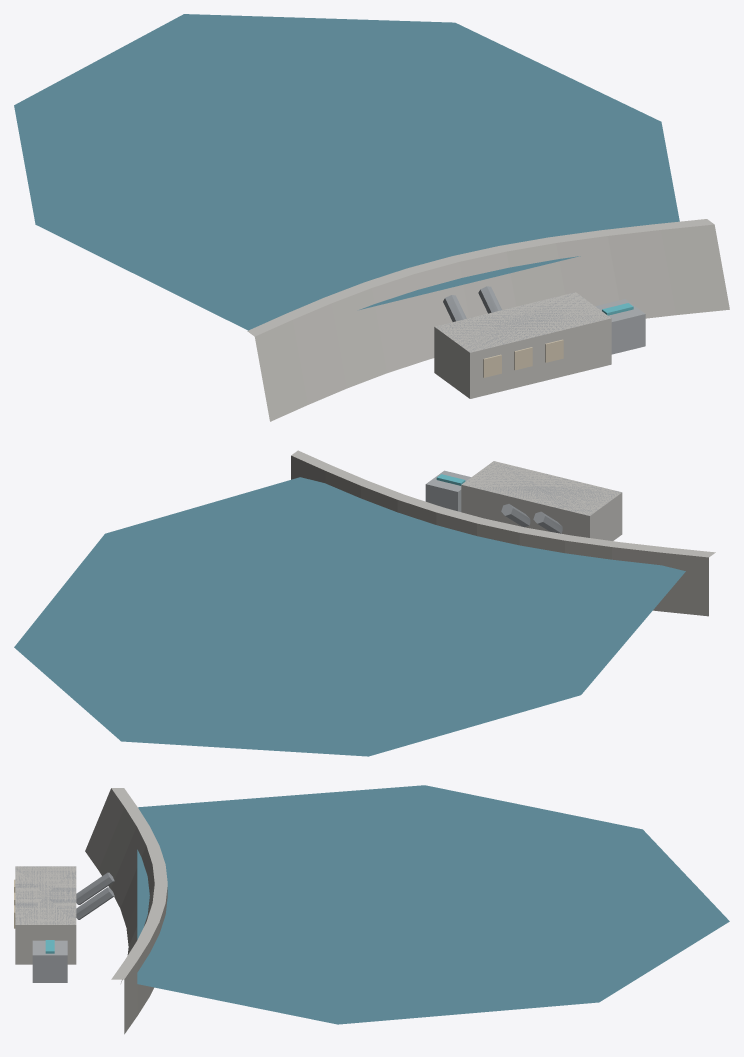
The model's file is plant_hydro_l2.glb.
3 views of the same model, one above another, from view 1: azimuth 30°, elevation 25°; view 2: azimuth 150°, elevation 25°; view 3: azimuth 270°, elevation 25° (orthographic). The views are drawn at different scales.
Parts seen in each view (by area): view 1: plant_hydro_l2; view 2: plant_hydro_l2; view 3: plant_hydro_l2.
Part boxes in pixels (x1,y1,x2,y2): plant_hydro_l2: [14, 14, 729, 421]; plant_hydro_l2: [14, 450, 715, 756]; plant_hydro_l2: [14, 785, 729, 1034].
Size of the model in its own units: 130 by 16 by 164.
